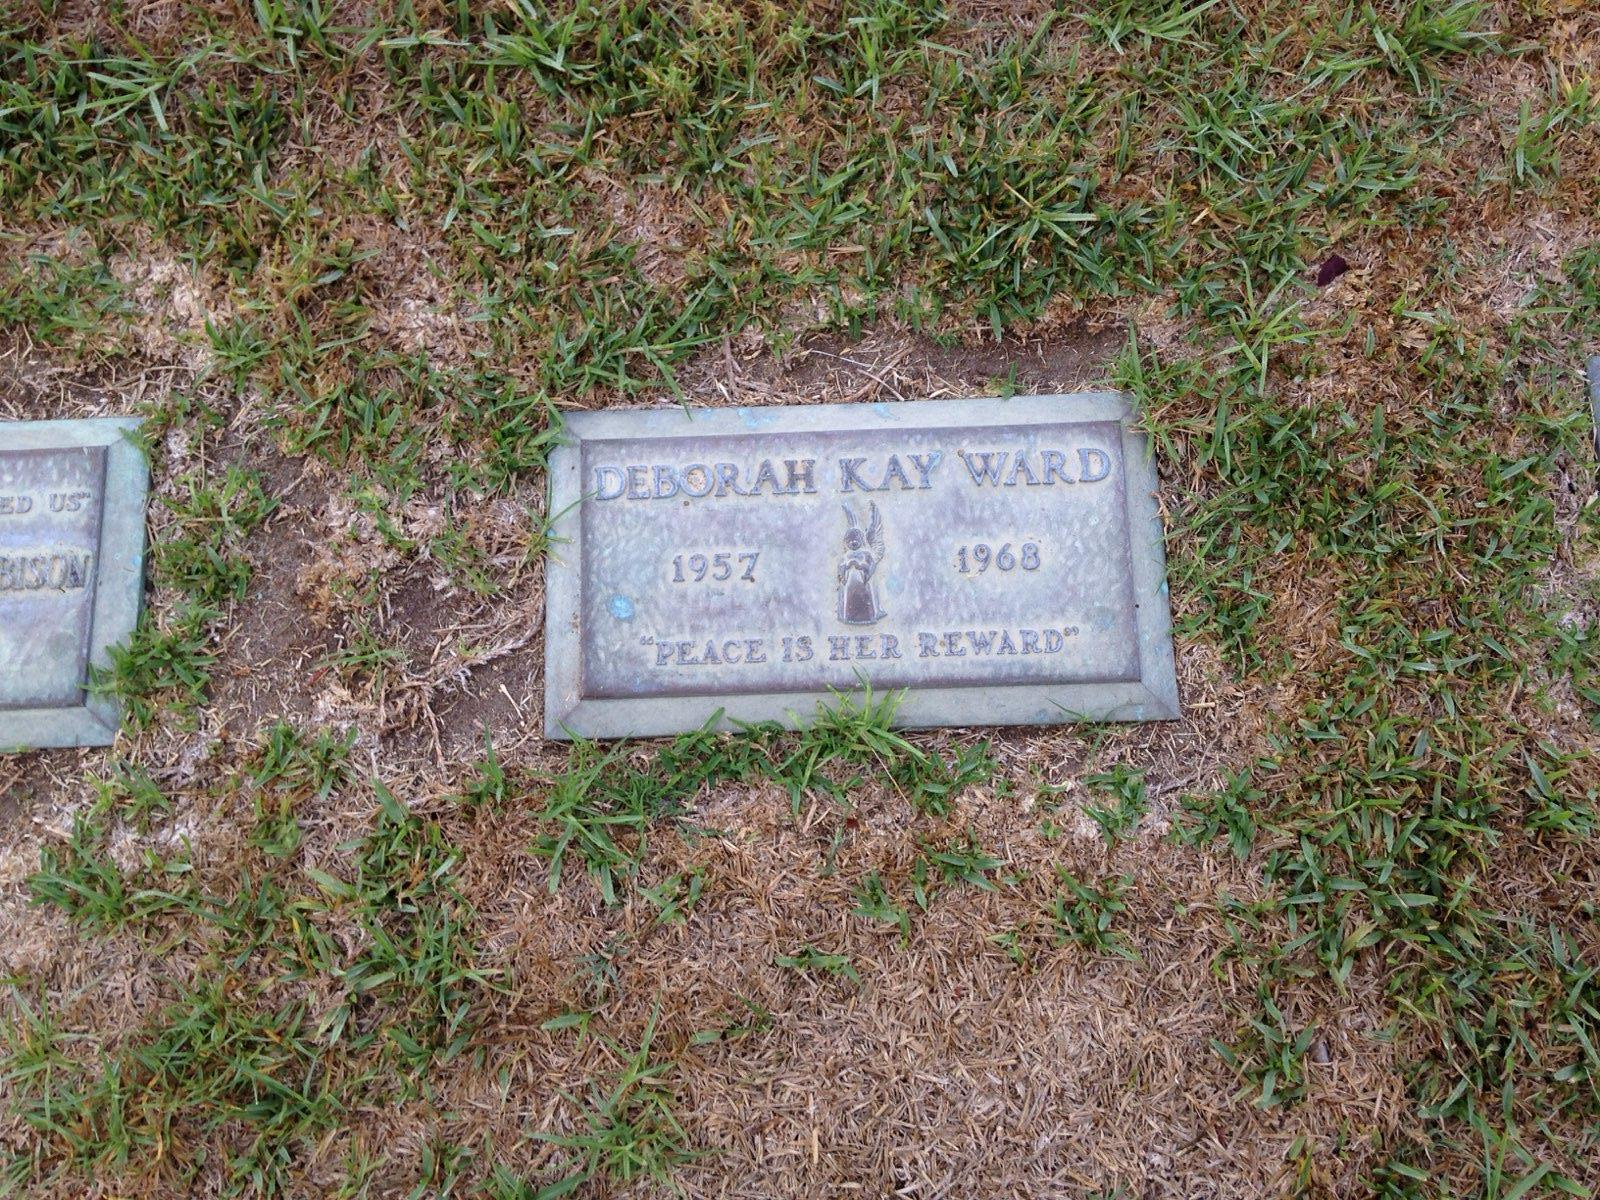flat: (522, 384, 1194, 758)
